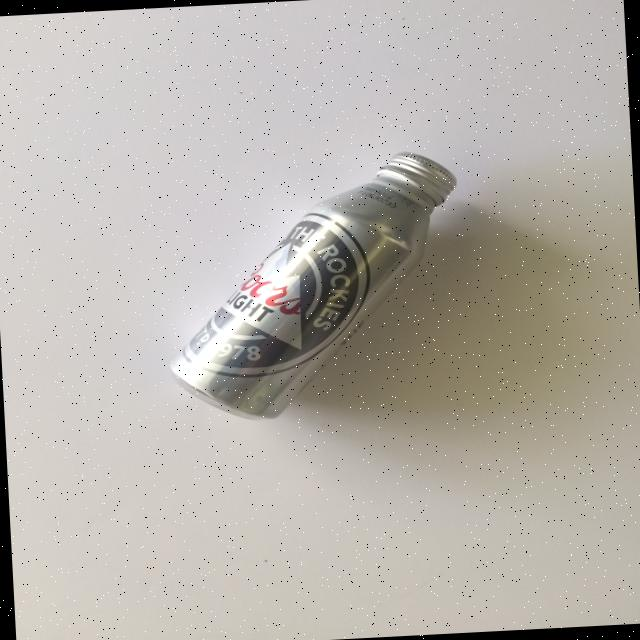metal: (158, 147, 470, 426)
